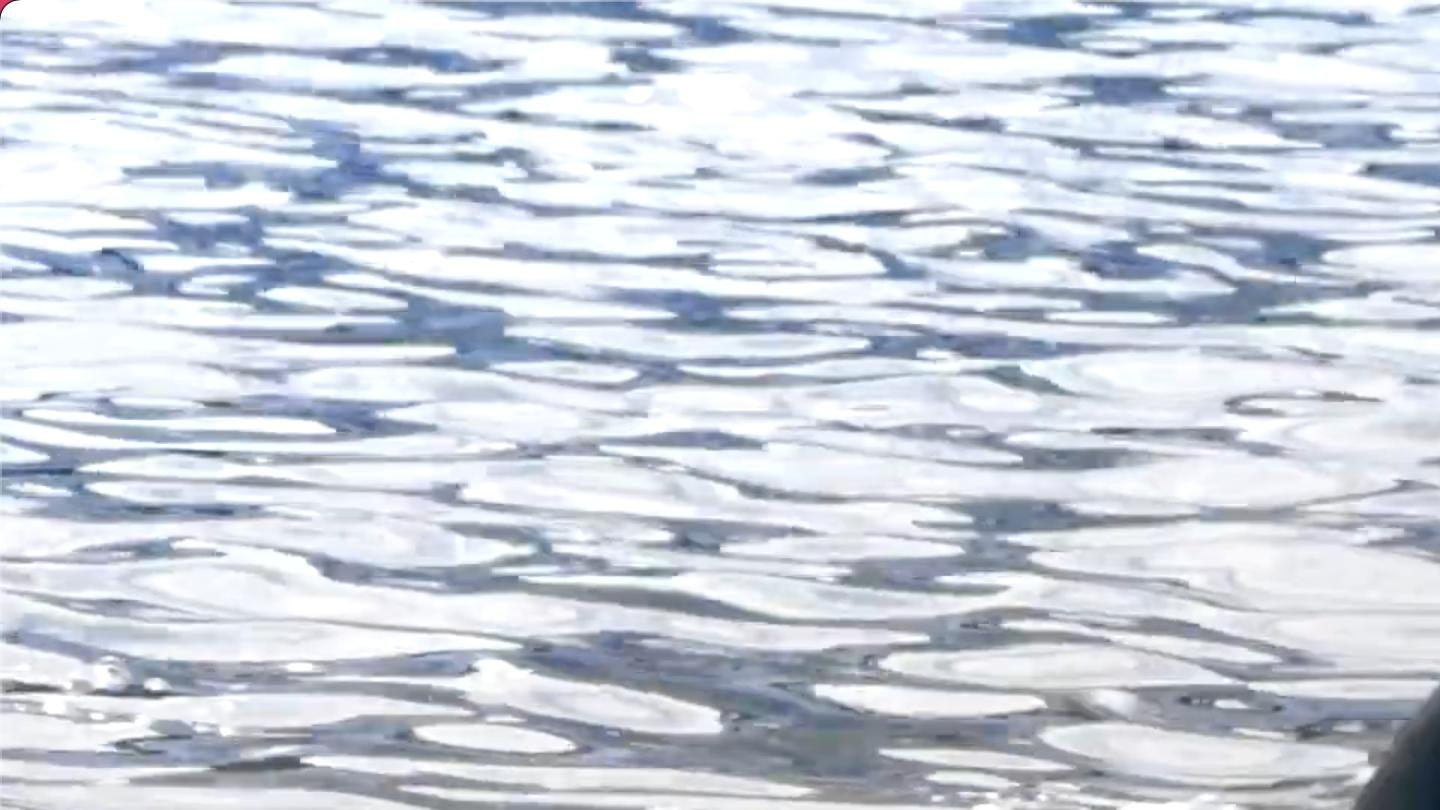Chinstrap Penguin: (892, 435, 1440, 810)
